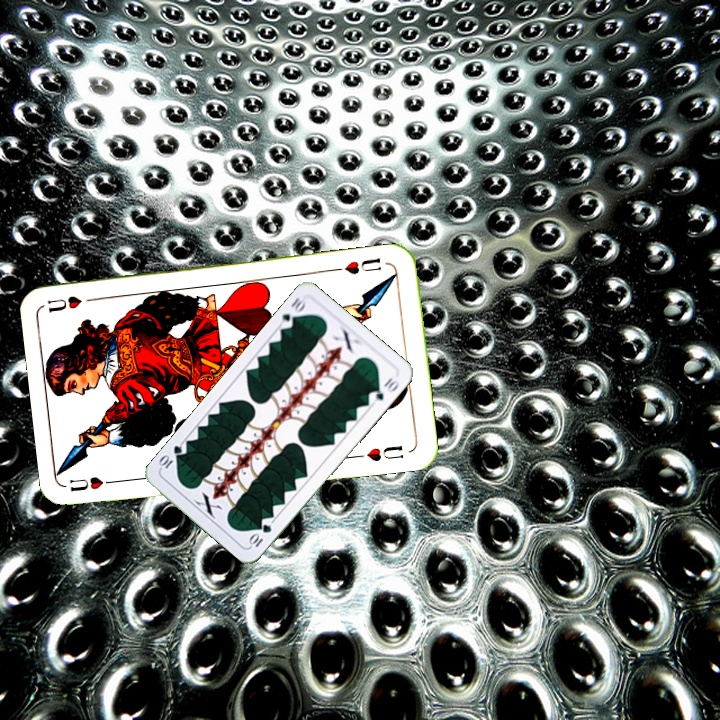G10: (275, 293, 309, 332), (245, 520, 274, 550)
HU: (65, 472, 124, 494), (332, 254, 384, 277)
